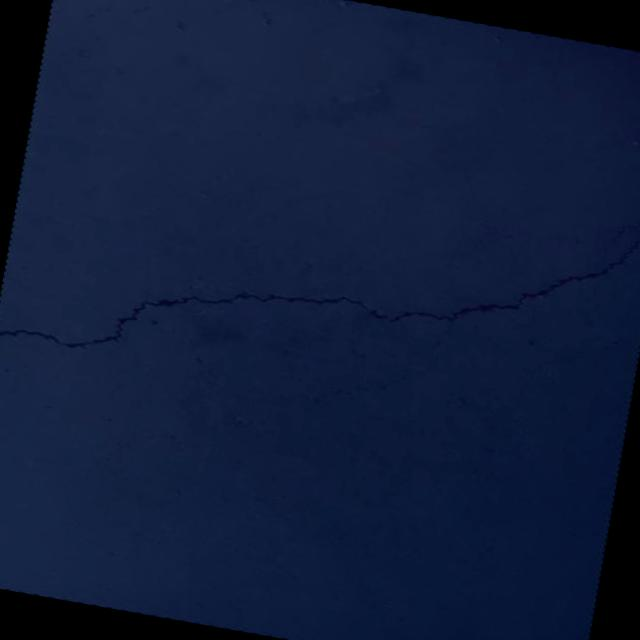crack: (0, 102, 640, 449), (353, 349, 414, 398)
